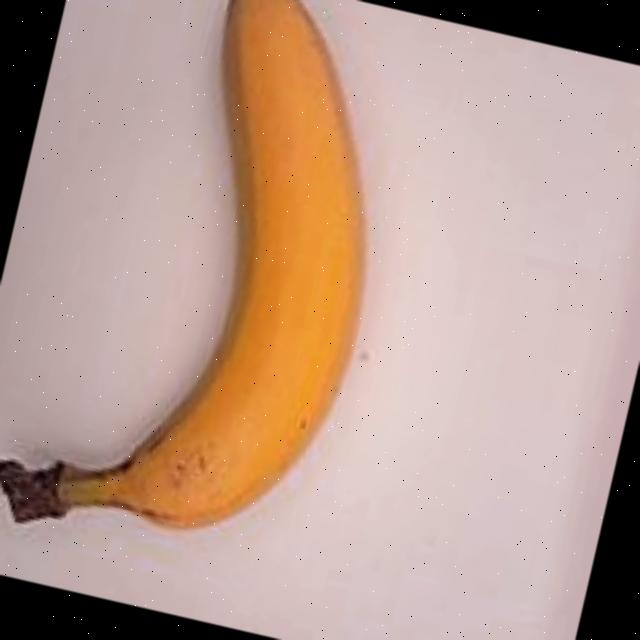Ripe: (0, 0, 477, 612)
